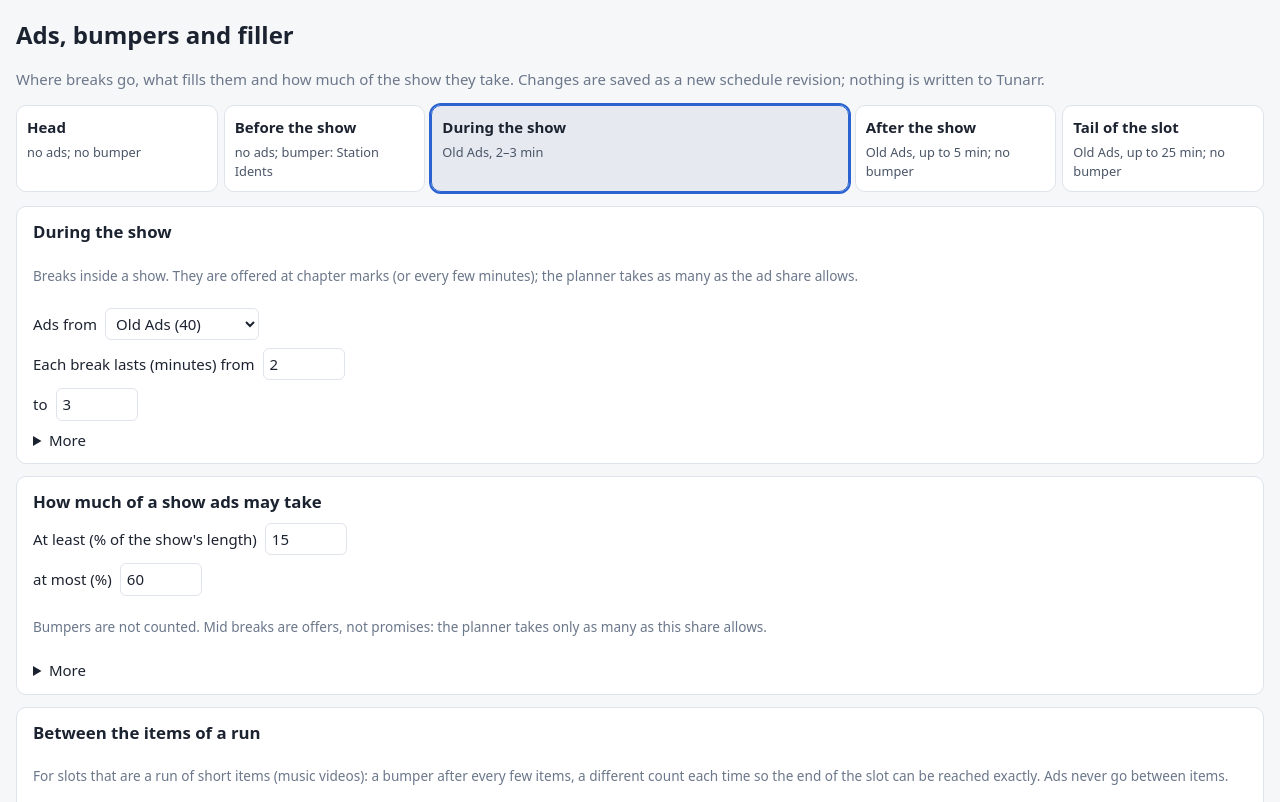
Scenario: the ads page › edits the ad share and the filler list, and can discard the changes
Expected: the element named "A block" is shown, [16,105,1264,192]
Replace the text in the number field labelled "At least (% of the show's length)" with "20" at (306, 539), box [265,522,347,555]
(page scrolled)
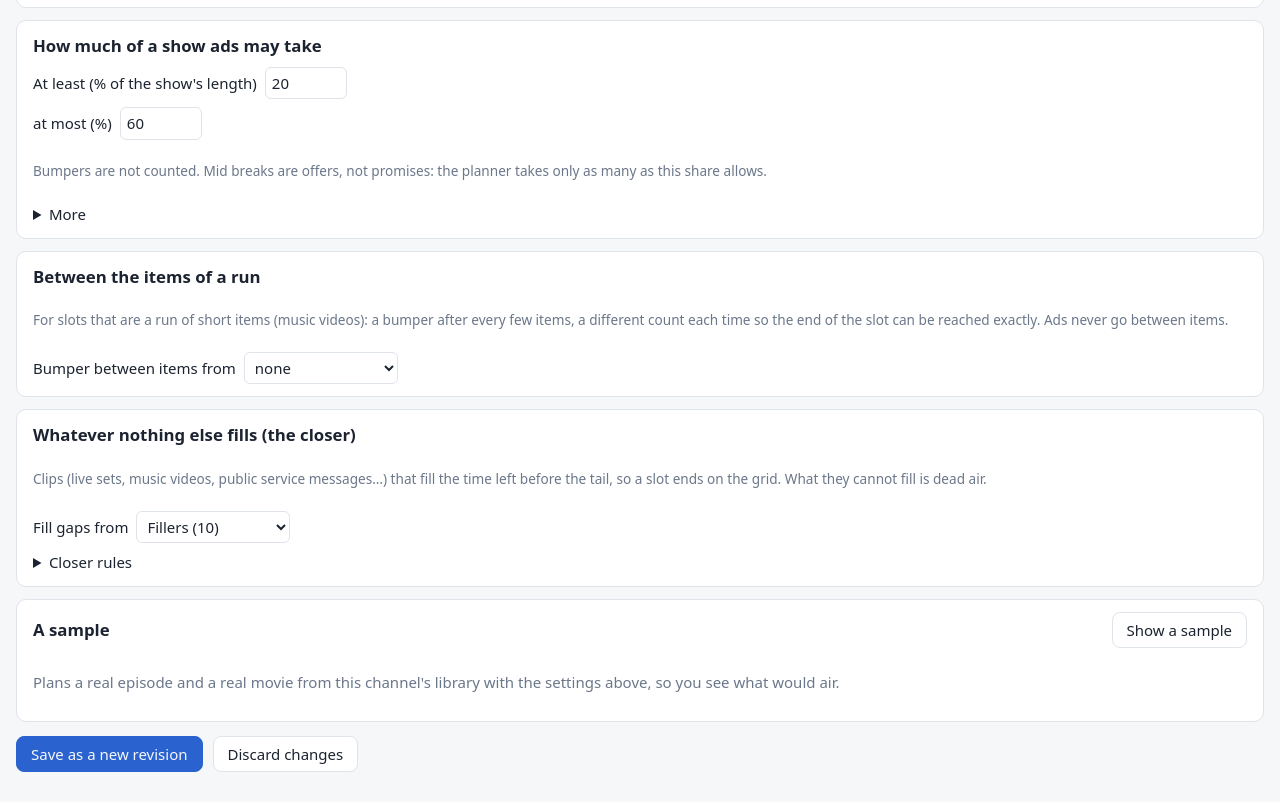
Select "none" in the dropdown labelled "Fill gaps from" at (213, 527), box [136,511,290,543]
(page scrolled)
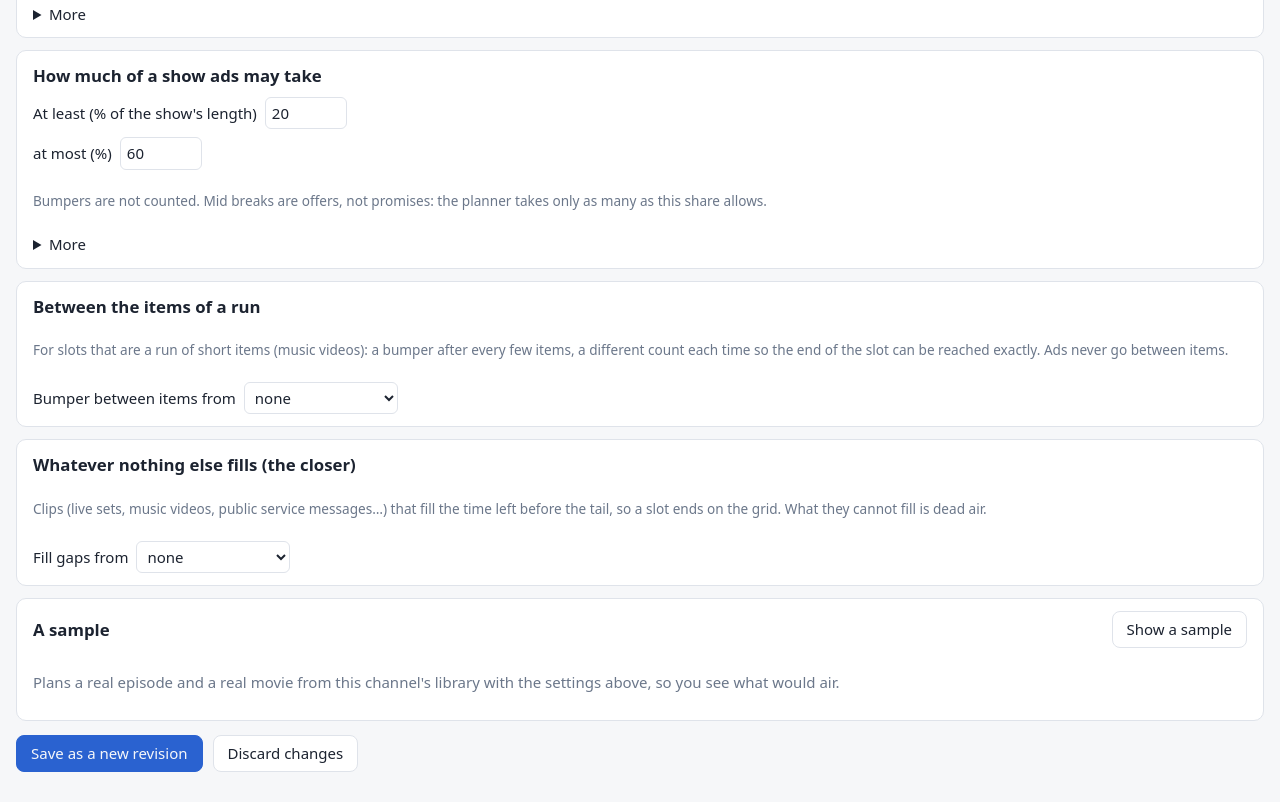
Expected: the button "Save as a new revision" is enabled, [16,735,202,772]
Click the button "Discard changes" at (285, 753), box [212,735,358,772]
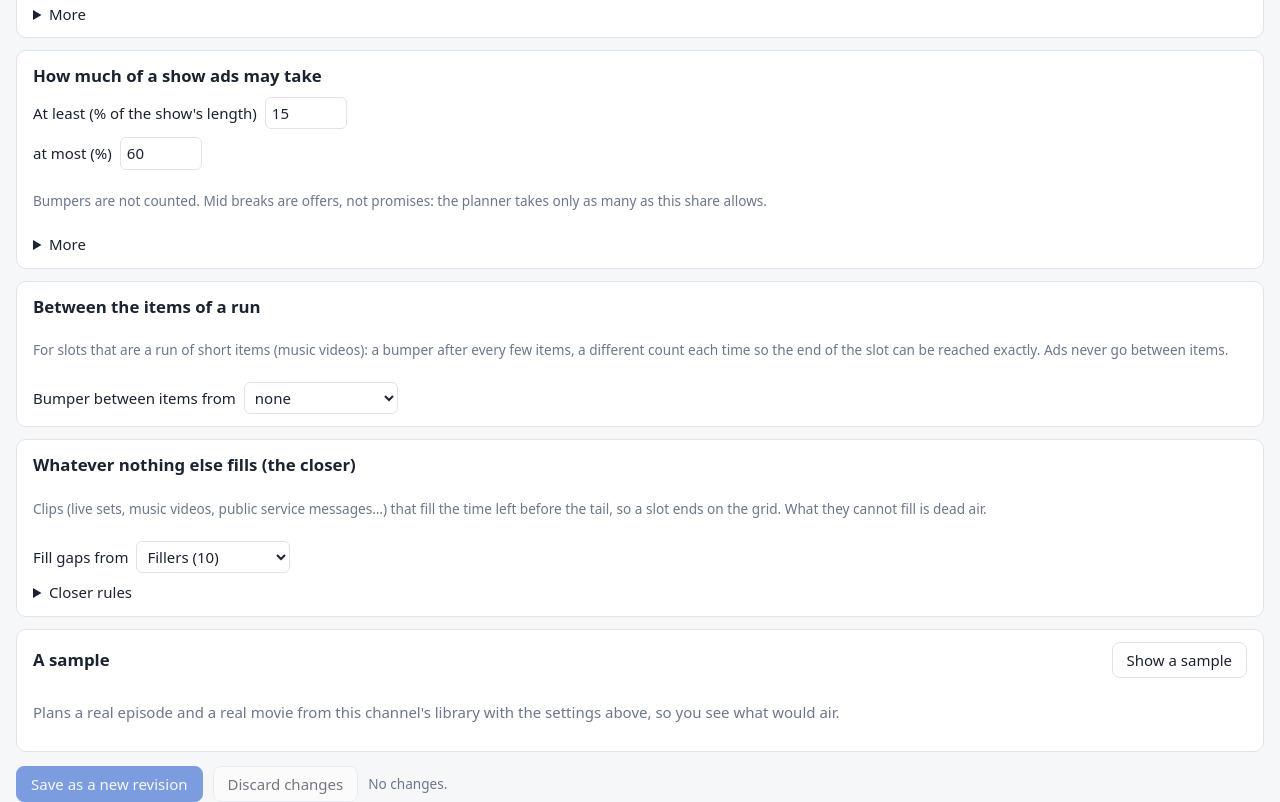
Expected: the number field labelled "At least (% of the show's length)" holds "15", [265,96,347,129]
